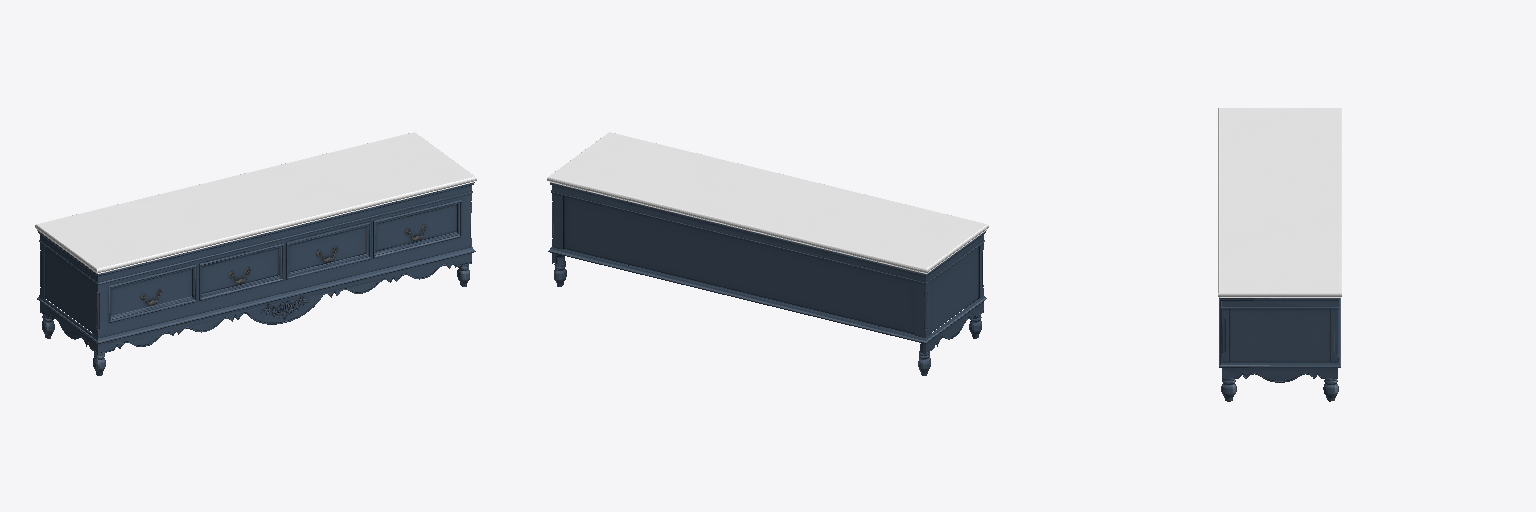
3 views of the same model, side by side, from view 1: azimuth 30°, elevation 25°; view 2: azimuth 150°, elevation 25°; view 3: azimuth 270°, elevation 25° (orthographic).
Visible parts, largest first — view 1: solid_002, solid_001; view 2: solid_002, solid_001; view 3: solid_001, solid_002.
Boxes of the visible parts, x1=… form: solid_002: x1=37, y1=182, x2=475, y2=375; solid_001: x1=35, y1=132, x2=476, y2=273; solid_002: x1=548, y1=183, x2=986, y2=375; solid_001: x1=547, y1=132, x2=988, y2=273; solid_001: x1=1218, y1=108, x2=1341, y2=297; solid_002: x1=1219, y1=298, x2=1340, y2=401.
Size of the model in its own units: 2 by 0.5589 by 0.5681.
Materials: 1 (1 with a texture image).